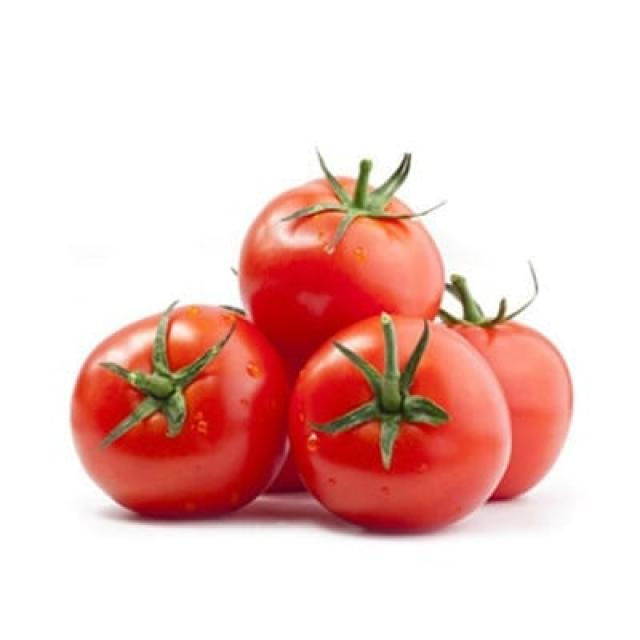tomatoes: (289, 315, 512, 536), (72, 303, 287, 519), (243, 164, 441, 345), (450, 302, 572, 502)
